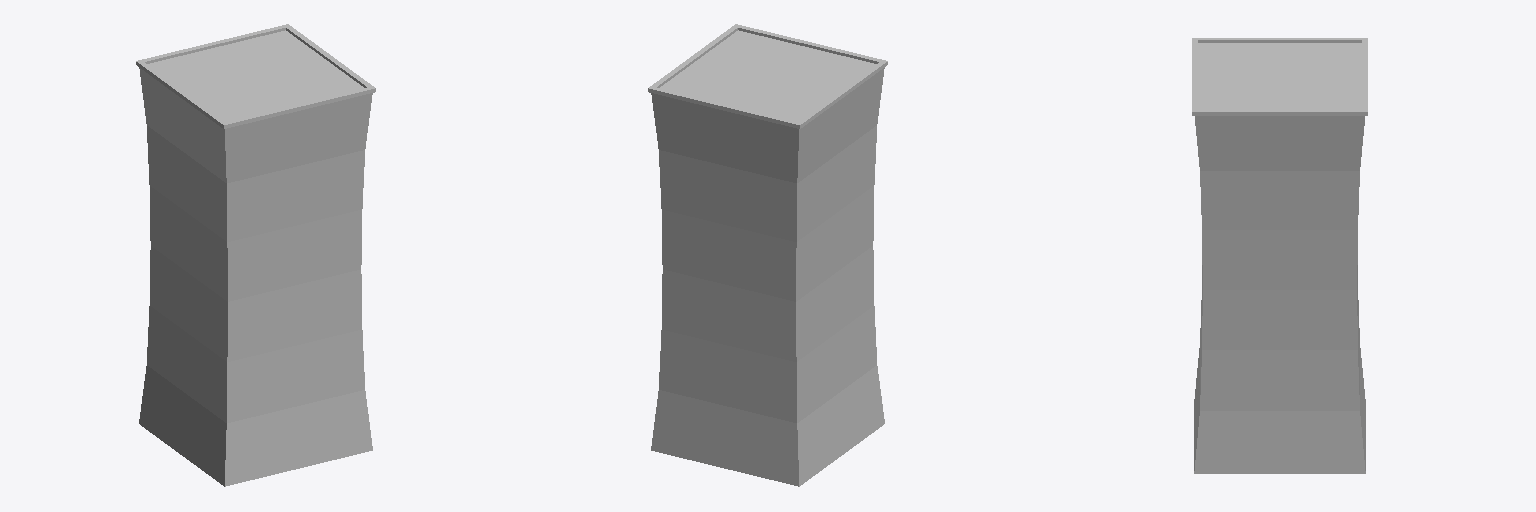
Rendered from lantern.obj.
The picture shows the model from 3 angles: view 1: azimuth 30°, elevation 25°; view 2: azimuth 150°, elevation 25°; view 3: azimuth 270°, elevation 25°; orthographic projection.
Visible parts, largest first — view 1: pCube5; view 2: pCube5; view 3: pCube5.
Part boxes in pixels (left/top/right/bottom): pCube5: left=136, top=24, right=375, bottom=486; pCube5: left=648, top=24, right=887, bottom=486; pCube5: left=1192, top=38, right=1367, bottom=473.
Size of the model in its own units: 1.03 by 2.33 by 1.03.